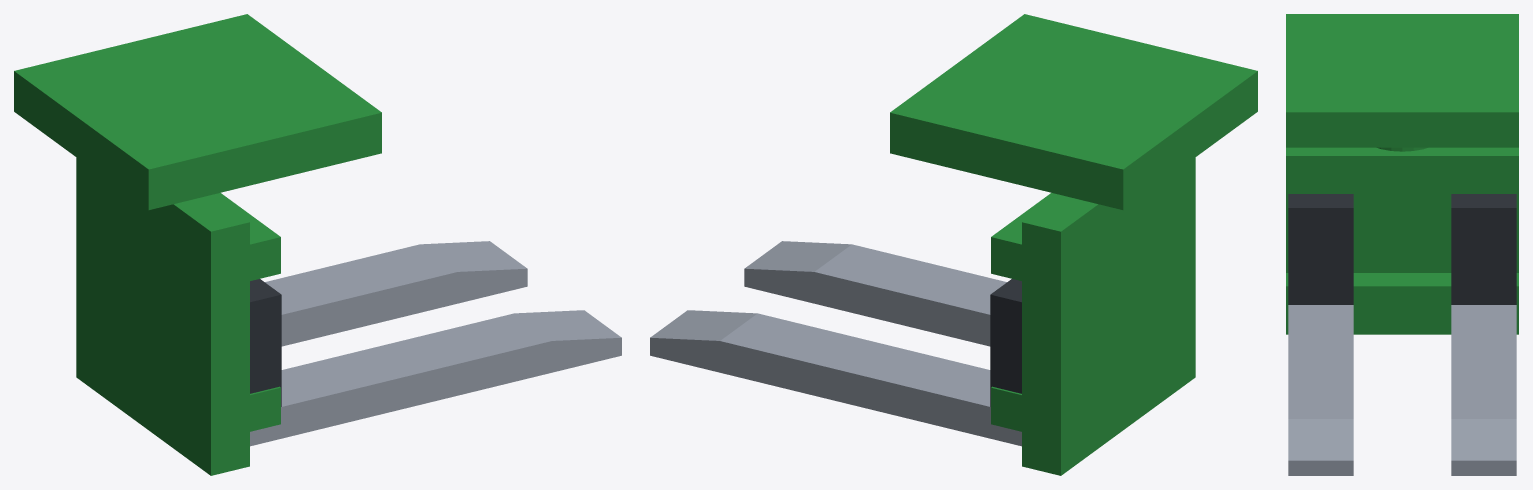
Rendered from pallet_fork.dae.
The picture shows the model from 3 angles, left to right: view 1: azimuth 30°, elevation 25°; view 2: azimuth 150°, elevation 25°; view 3: azimuth 270°, elevation 25°; orthographic projection. The views are drawn at different scales.
Visible parts, largest first — view 1: pallet_fork; view 2: pallet_fork; view 3: pallet_fork.
Part boxes in pixels (x1,y1,x2,y2): pallet_fork: (14,14,621,475); pallet_fork: (650,14,1257,475); pallet_fork: (1286,14,1518,475).
Bounding box in the file's own units: 0.61 × 0.3 × 0.395.
